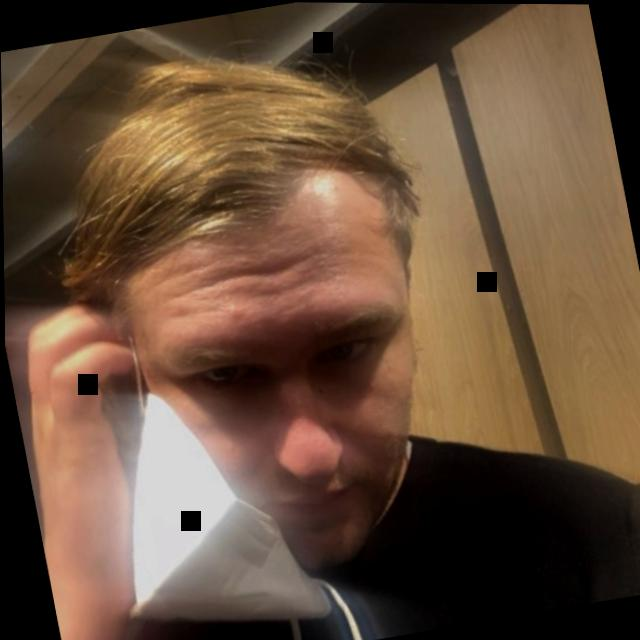NO-Mask: (49, 13, 502, 603)
